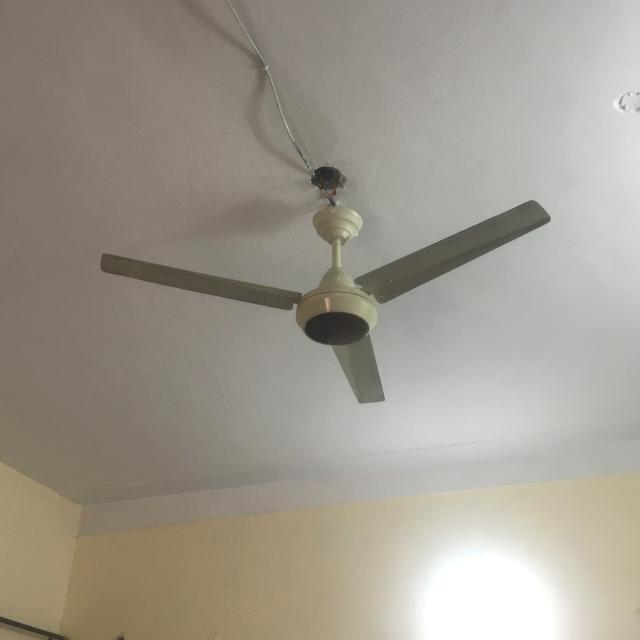off: (96, 188, 567, 409)
